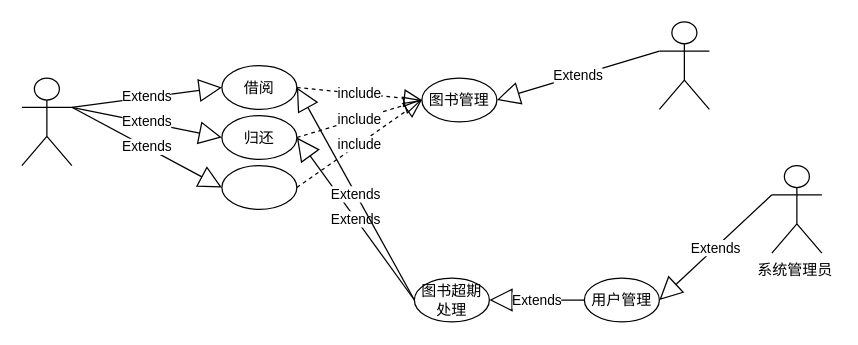
This 858x345 diagram has some shape labels left out. The shapes that lost their labels are listed below. From the top down, each one's centre as x and y in pixels, then its label:
the point at 683,65: 图书管理员
the point at 46,121: 读者
the point at 259,186: 预约
